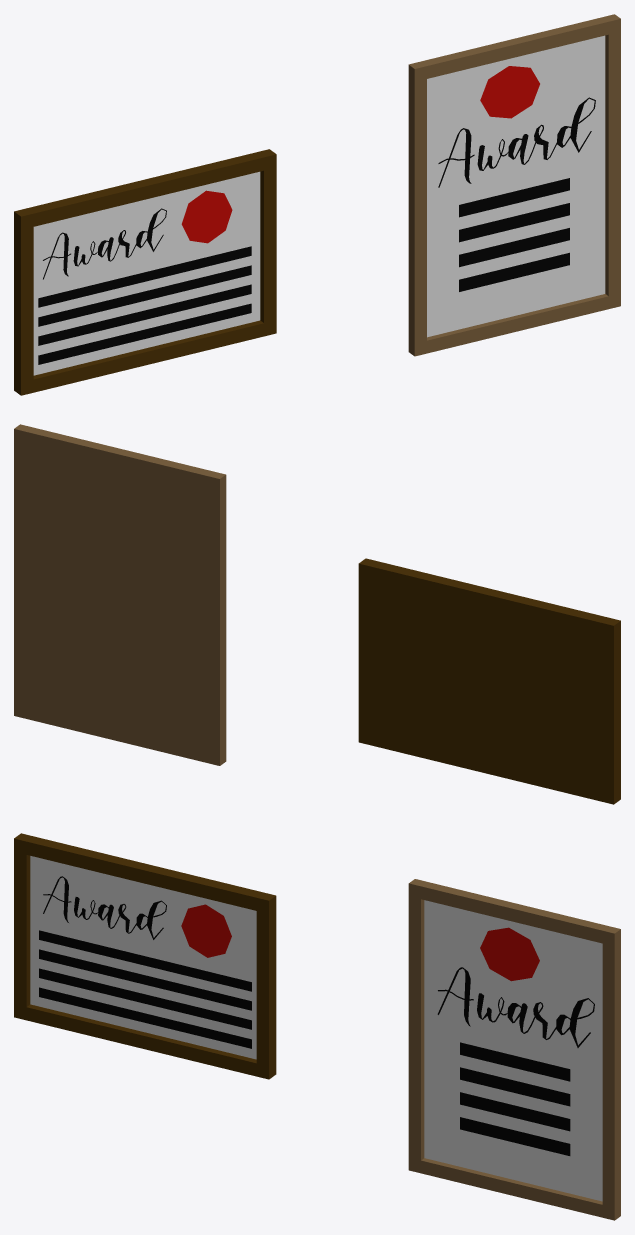
File: R_Awards.fbx
3 renders of one model, top to bottom at view 1: azimuth 30°, elevation 25°; view 2: azimuth 150°, elevation 25°; view 3: azimuth 330°, elevation 25°, orthographic.
Visible parts, largest first — view 1: R_Awards; view 2: R_Awards; view 3: R_Awards.
Boxes of the visible parts, left/top/right/bottom form: R_Awards: left=14, top=14, right=620, bottom=395; R_Awards: left=14, top=424, right=620, bottom=804; R_Awards: left=14, top=833, right=620, bottom=1220.
Bounding box in the file's own units: 940 × 19.38 × 430.
